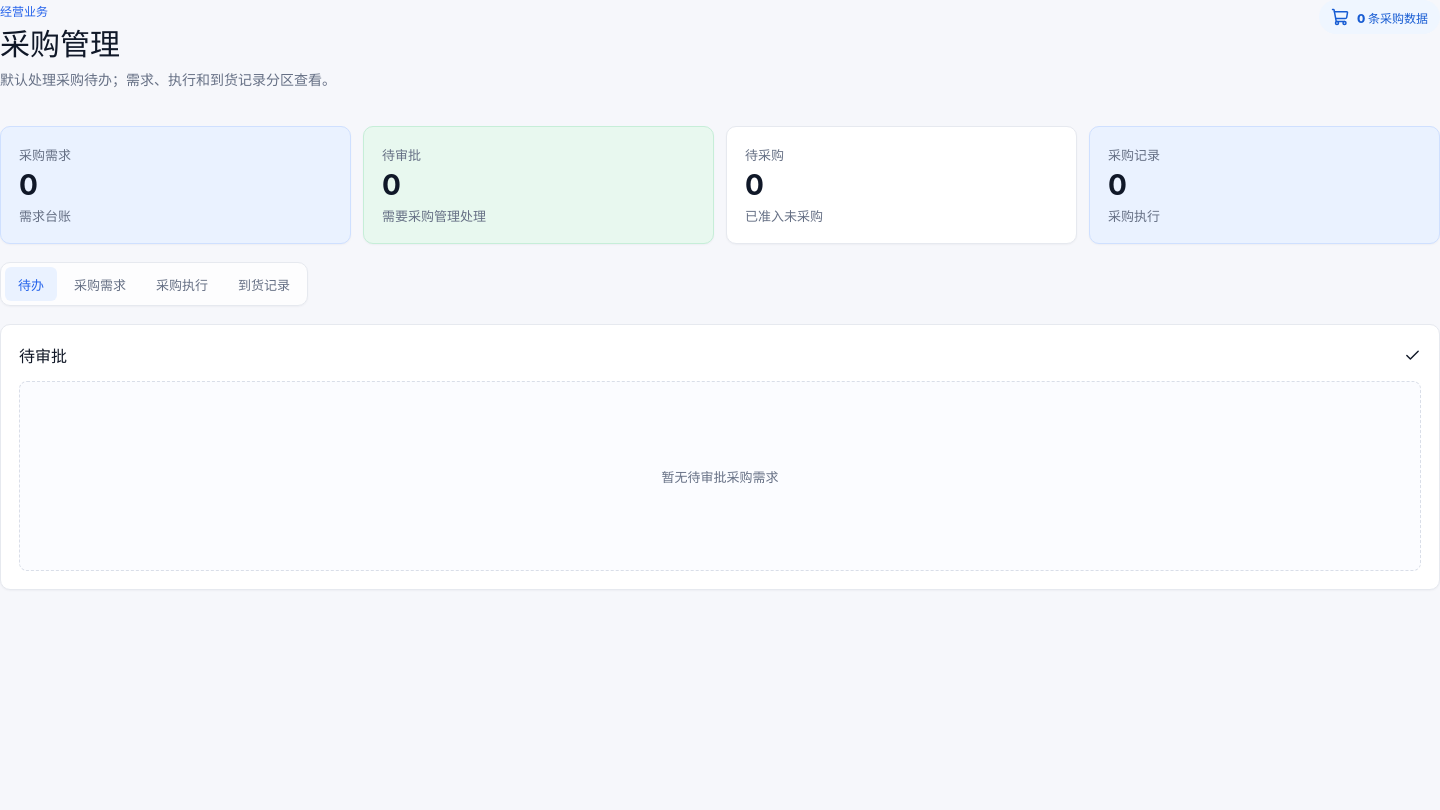
it: 采购/库存 行内校验 › 采购需求必填为空时显示行内错误且不调接口
The width and height of the screenshot is (1440, 810).
Click the tab "采购需求".
click(100, 284)  # box 61,268 -> 139,302
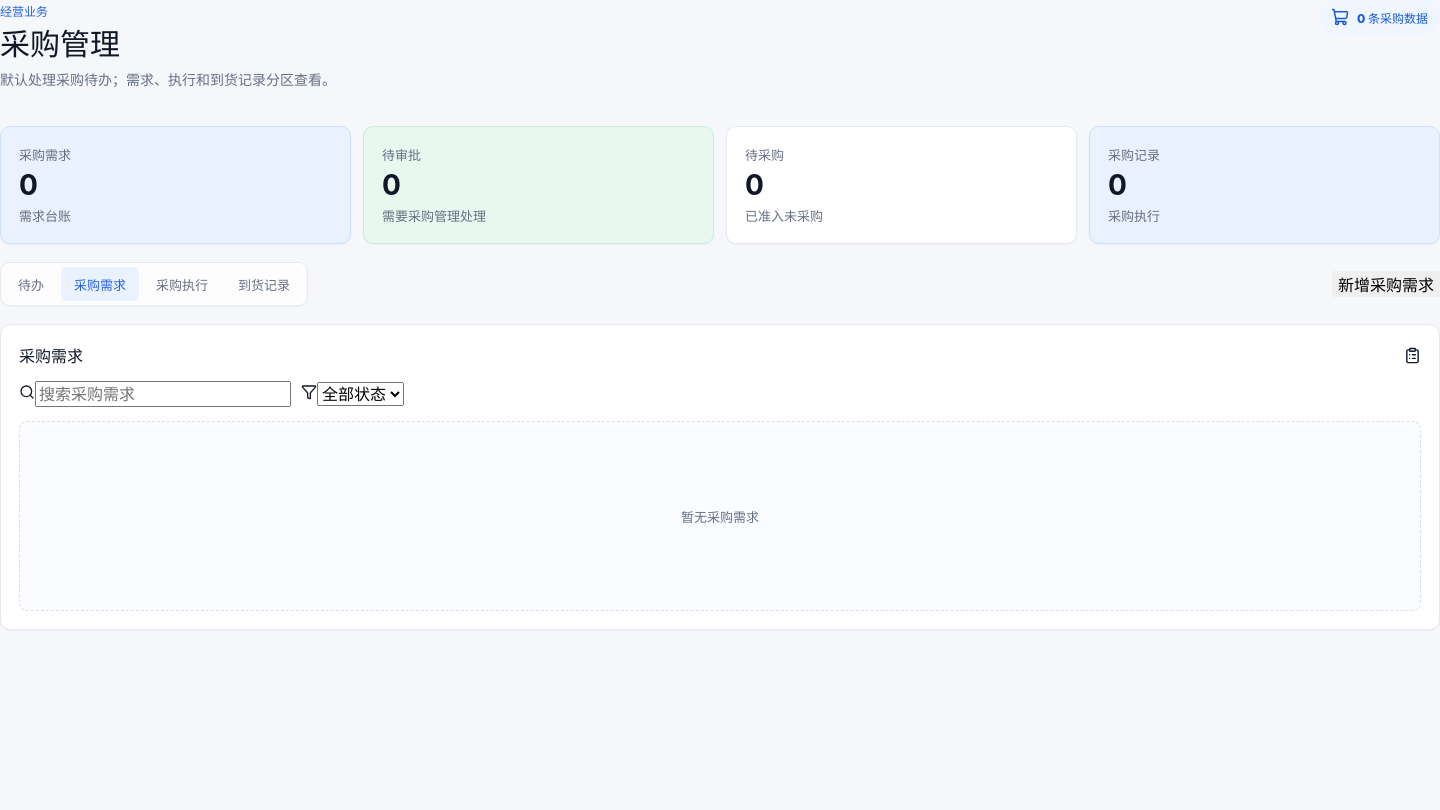
expect the text "暂无采购需求" is shown: met, box 681,507 -> 759,526
Click the button "新增采购需求".
click(1386, 284)  # box 1332,272 -> 1439,298
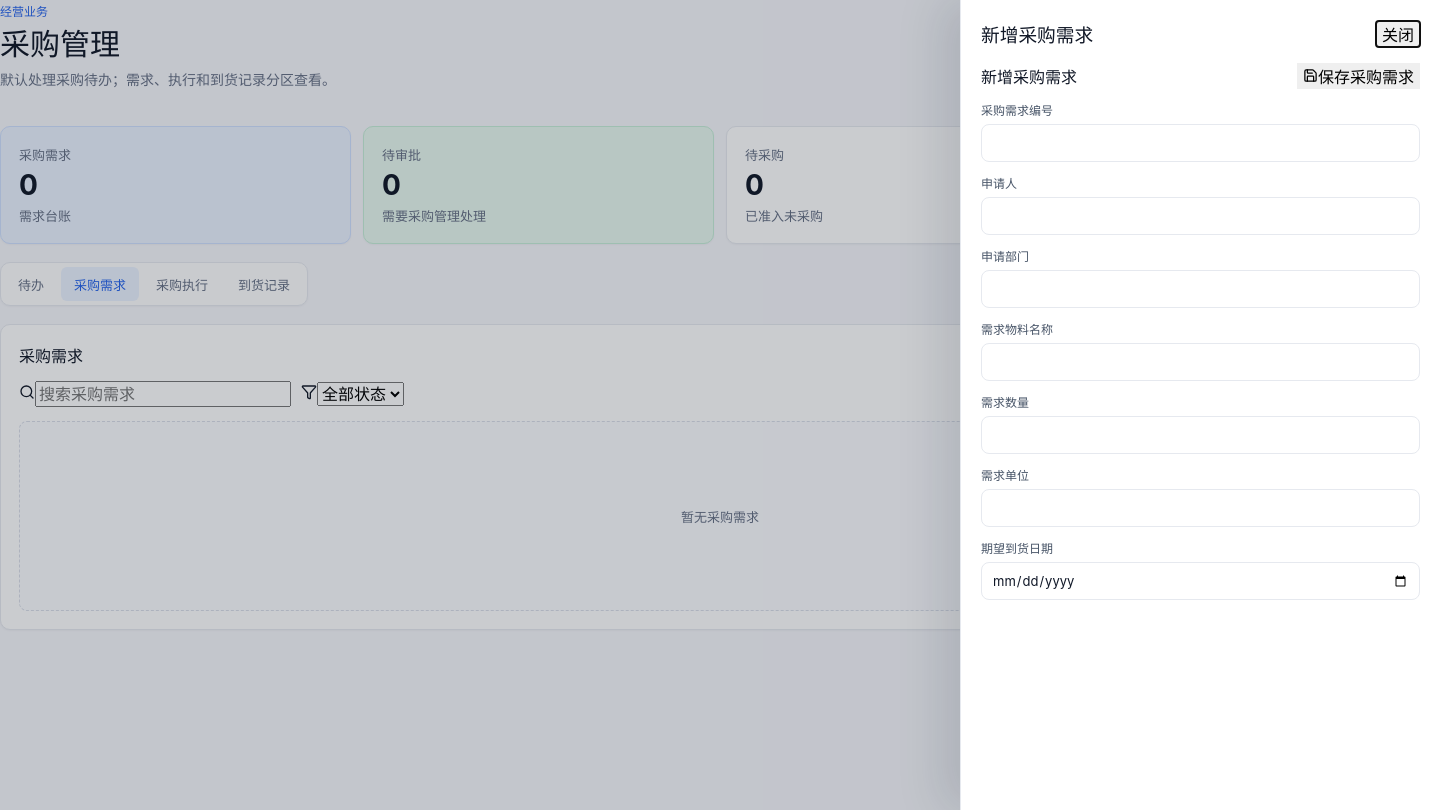
Click the button "保存采购需求".
click(1358, 76)  # box 1297,63 -> 1420,89
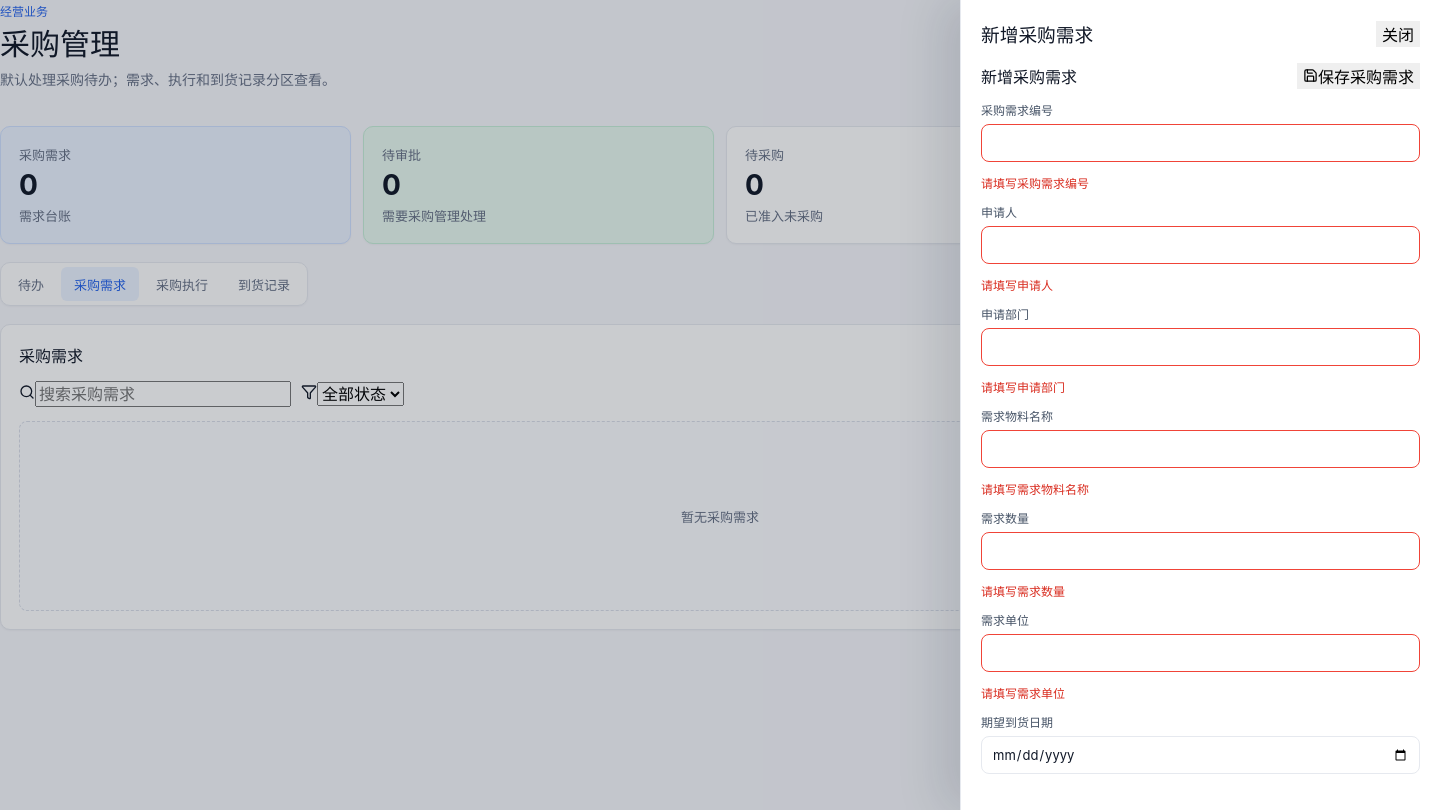
expect the text "请填写采购需求编号" is shown: met, box 981,176 -> 1089,191
expect the text "请填写申请人" is shown: met, box 981,278 -> 1053,293
